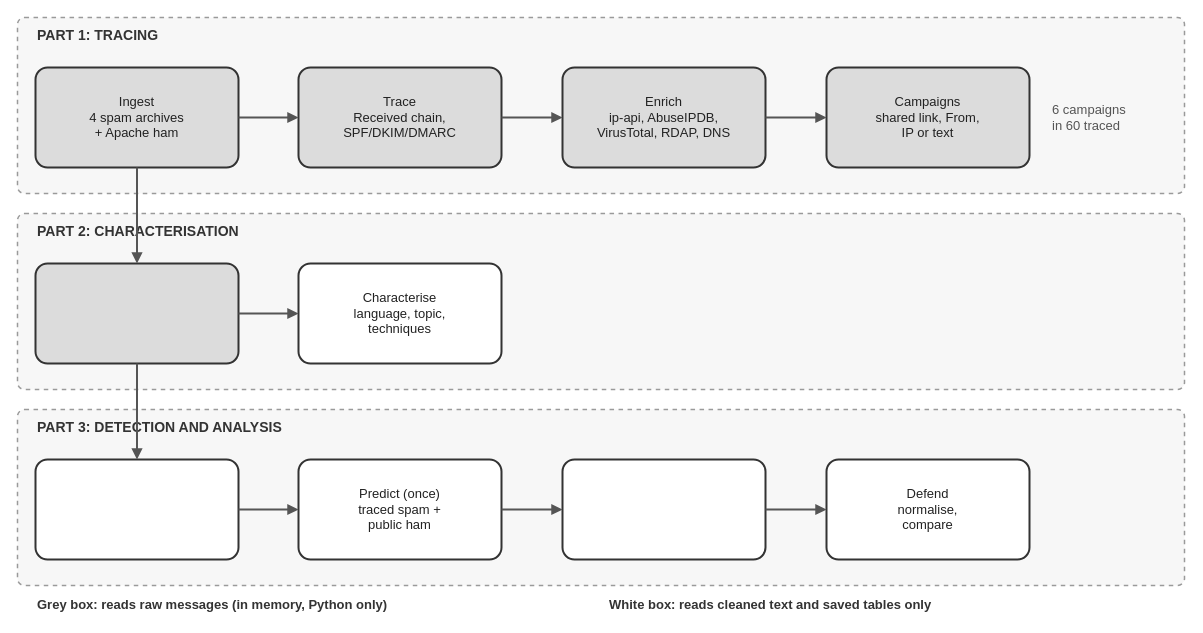
Image size: 1203x633. Some labels were removed from this diagram. The centre of each missing label's shape, as x and y in pixels:
Analyse metrics, errors, evasion tests: pixel 663 509
Clean text strip HTML, redact, defang links: pixel 136 313
Train Enron + SpamAssassin 3 models: pixel 136 509
